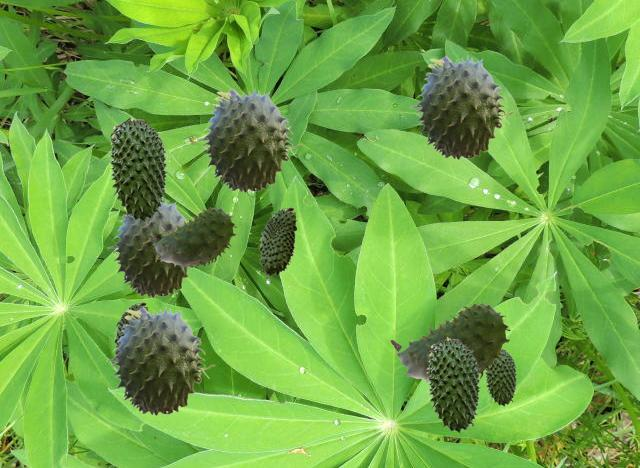guyabano: (106, 305, 214, 415), (197, 87, 301, 192), (410, 54, 514, 159), (390, 303, 509, 384), (107, 197, 195, 297), (108, 116, 167, 221), (148, 207, 235, 269), (426, 336, 480, 432), (259, 207, 296, 275), (484, 348, 516, 405), (114, 302, 148, 354)
